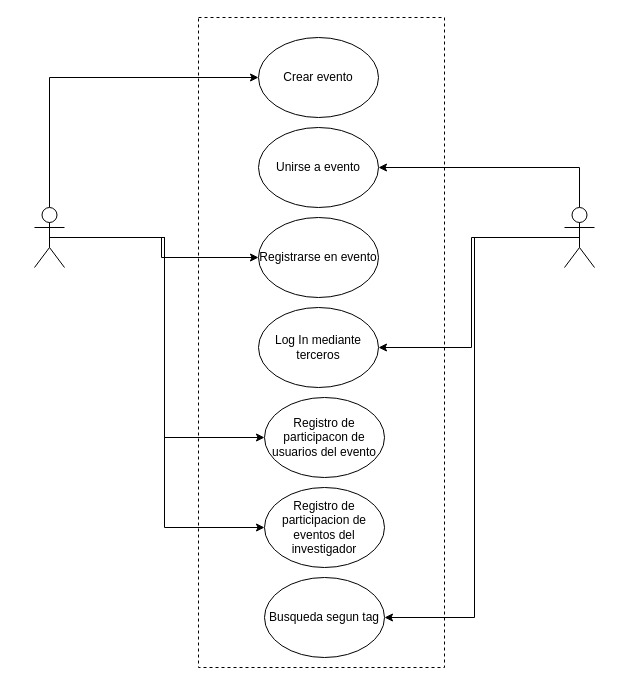
The diagram is 617 pixels wide and 685 high, and some of its shapes have lost their labels. The box of each missing label's shape, as (x1, y1, x2, y2) in pixels:
Investigador: (34, 206, 64, 268)
Usuario: (564, 206, 594, 268)
